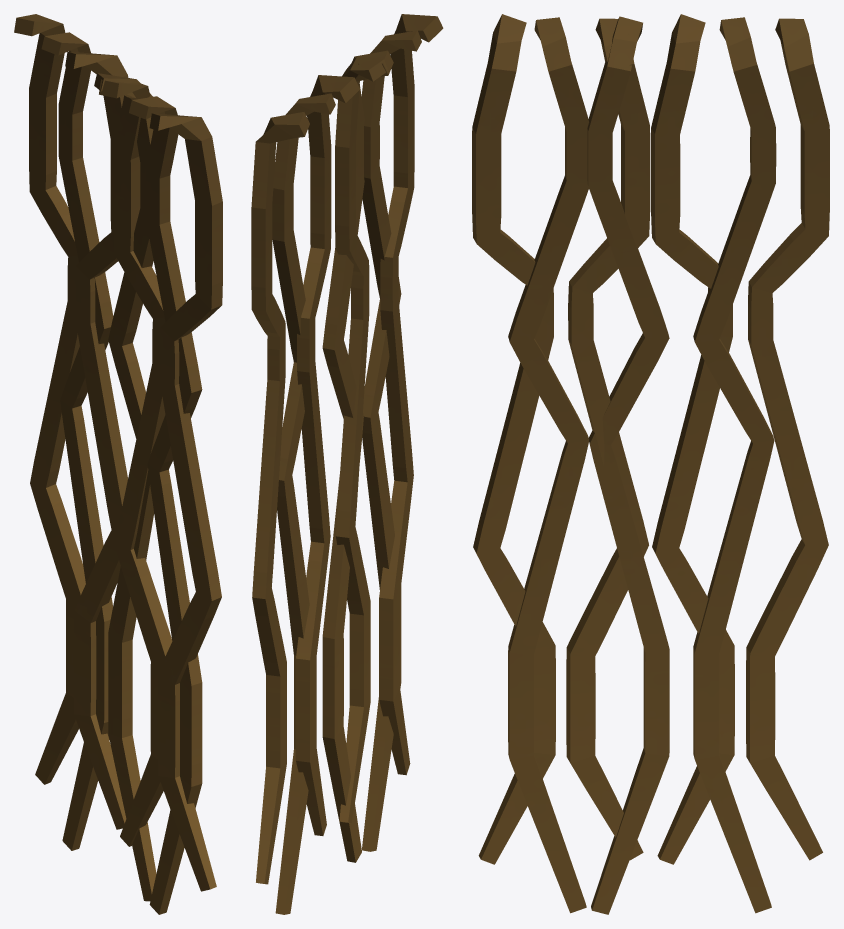
Rendered from vines.glb.
3 views of the same model, side by side, from view 1: azimuth 30°, elevation 25°; view 2: azimuth 150°, elevation 25°; view 3: azimuth 270°, elevation 25° (orthographic). The views are drawn at different scales.
Parts seen in each view (by area): view 1: Cube.027, Cube.026, Cube.025, Cube.023, Cube.022, Cube.024, Cube.020; view 2: Cube.026, Cube.023, Cube.027, Cube.022, Cube.024, Cube.025, Cube.020; view 3: Cube.026, Cube.024, Cube.025, Cube.020, Cube.027, Cube.023, Cube.022.
Boxes of the visible parts, bbox=[...] form: Cube.027: bbox=[149, 113, 222, 891]; Cube.026: bbox=[14, 14, 85, 784]; Cube.025: bbox=[129, 96, 202, 914]; Cube.023: bbox=[65, 51, 128, 829]; Cube.022: bbox=[99, 79, 172, 846]; Cube.024: bbox=[41, 32, 113, 850]; Cube.020: bbox=[94, 73, 156, 901]; Cube.026: bbox=[251, 112, 309, 884]; Cube.023: bbox=[295, 75, 359, 835]; Cube.027: bbox=[379, 14, 443, 775]; Cube.022: bbox=[335, 50, 393, 823]; Cube.024: bbox=[272, 93, 335, 914]; Cube.025: bbox=[361, 30, 421, 851]; Cube.020: bbox=[322, 56, 388, 862]; Cube.026: bbox=[746, 18, 829, 860]; Cube.024: bbox=[693, 17, 776, 913]; Cube.025: bbox=[508, 17, 588, 913]; Cube.020: bbox=[587, 16, 669, 914]; Cube.027: bbox=[472, 14, 555, 864]; Cube.023: bbox=[651, 14, 734, 864]; Cube.022: bbox=[566, 18, 650, 860].
Bounding box in the file's own units: 0.1197 × 1.69 × 0.6225.
Materials: 1 (1 with a texture image).
